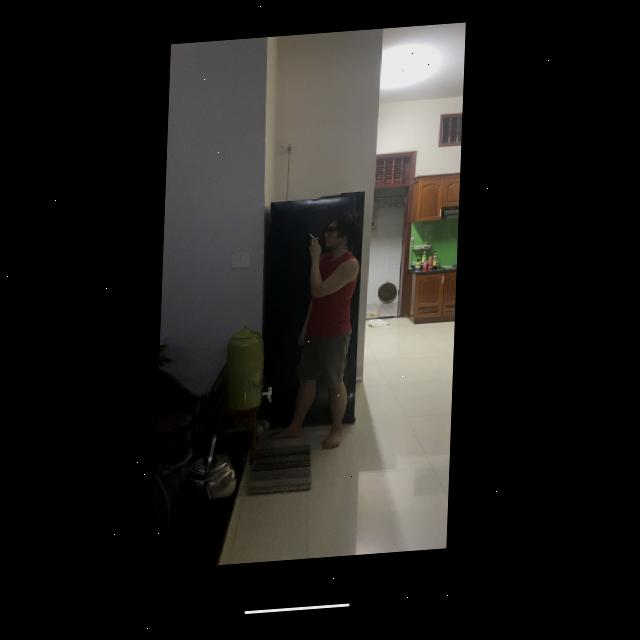cigarette: (310, 238, 317, 244)
